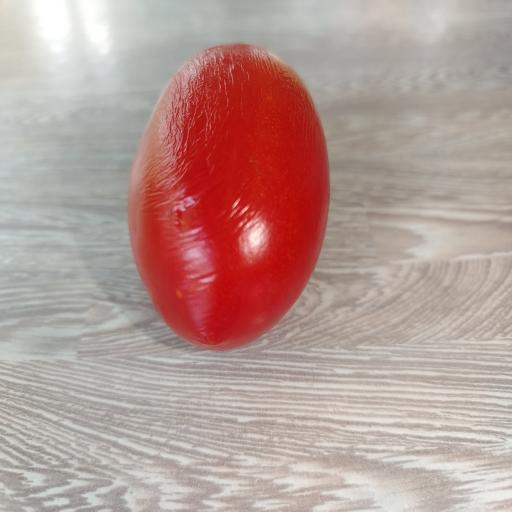spoiled: (128, 45, 329, 350)
